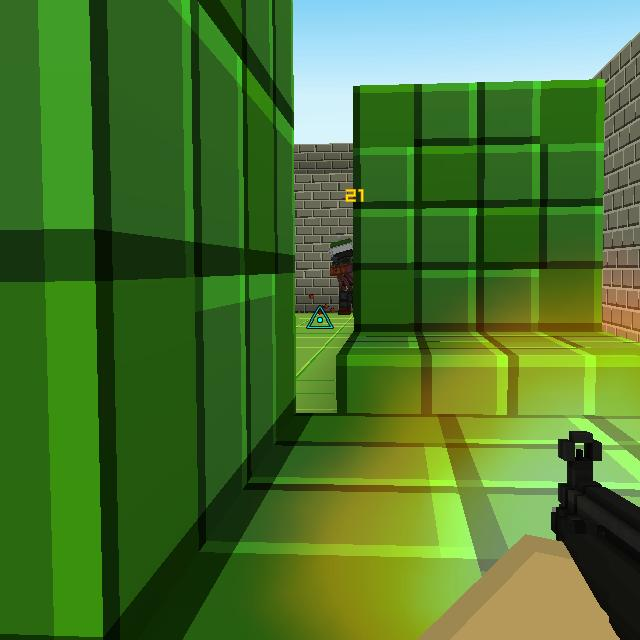enemy: (326, 235, 354, 316)
